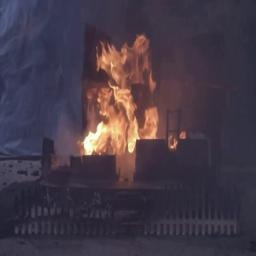fire: (81, 37, 163, 162)
